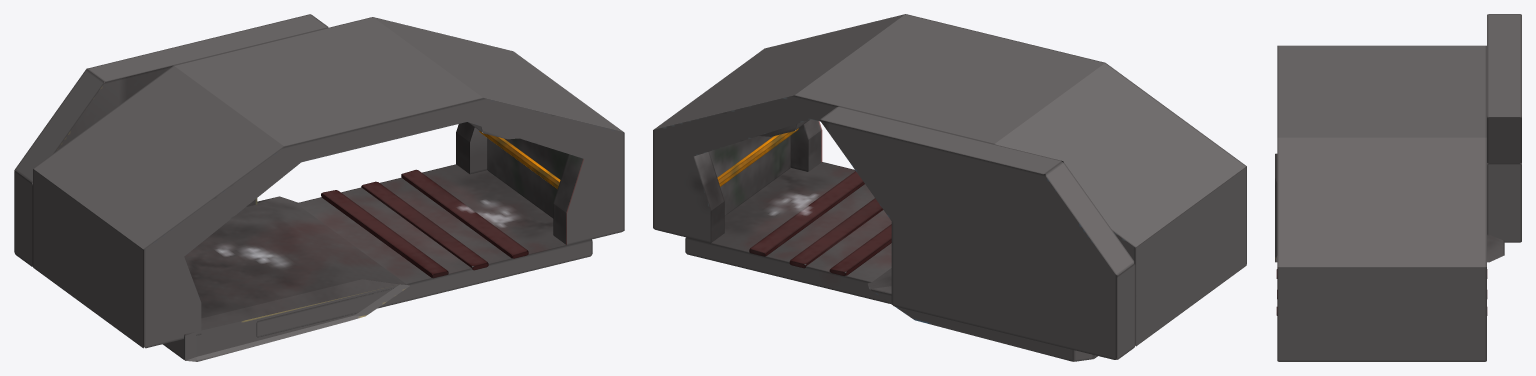
The model's file is subwayroom02.fbx.
3 renders of one model, left to right at view 1: azimuth 30°, elevation 25°; view 2: azimuth 150°, elevation 25°; view 3: azimuth 270°, elevation 25°, orthographic. The views are drawn at different scales.
Visible parts, largest first — view 1: tube, beveled_cuboid, cuboid, cuboid_4, cuboid_3, cuboid_1, cuboid_2, cylinder; view 2: tube, cuboid_4, cuboid, beveled_cuboid, cuboid_3, cuboid_2, cuboid_1, cylinder; view 3: tube, cuboid_4, beveled_cuboid, cuboid.
Part boxes in pixels (x1,y1,x2,y2): tube: [33, 17, 624, 348]; beveled_cuboid: [163, 196, 410, 361]; cuboid: [256, 164, 592, 337]; cuboid_4: [14, 14, 328, 266]; cuboid_3: [401, 169, 528, 258]; cuboid_1: [321, 190, 448, 278]; cuboid_2: [361, 181, 488, 270]; cylinder: [479, 131, 560, 188]; tube: [653, 14, 1246, 346]; cuboid_4: [820, 106, 1135, 359]; cuboid: [685, 162, 891, 303]; beveled_cuboid: [867, 268, 1097, 361]; cuboid_3: [749, 171, 864, 256]; cuboid_2: [789, 198, 883, 268]; cuboid_1: [829, 224, 891, 275]; cylinder: [717, 128, 798, 186]; tube: [1277, 45, 1486, 360]; cuboid_4: [1487, 14, 1521, 242]; beveled_cuboid: [1275, 153, 1504, 262]; cuboid: [1277, 360, 1486, 361].
Bounding box in the file's own units: 375 × 144 × 177.
1 material, 1 textured.
